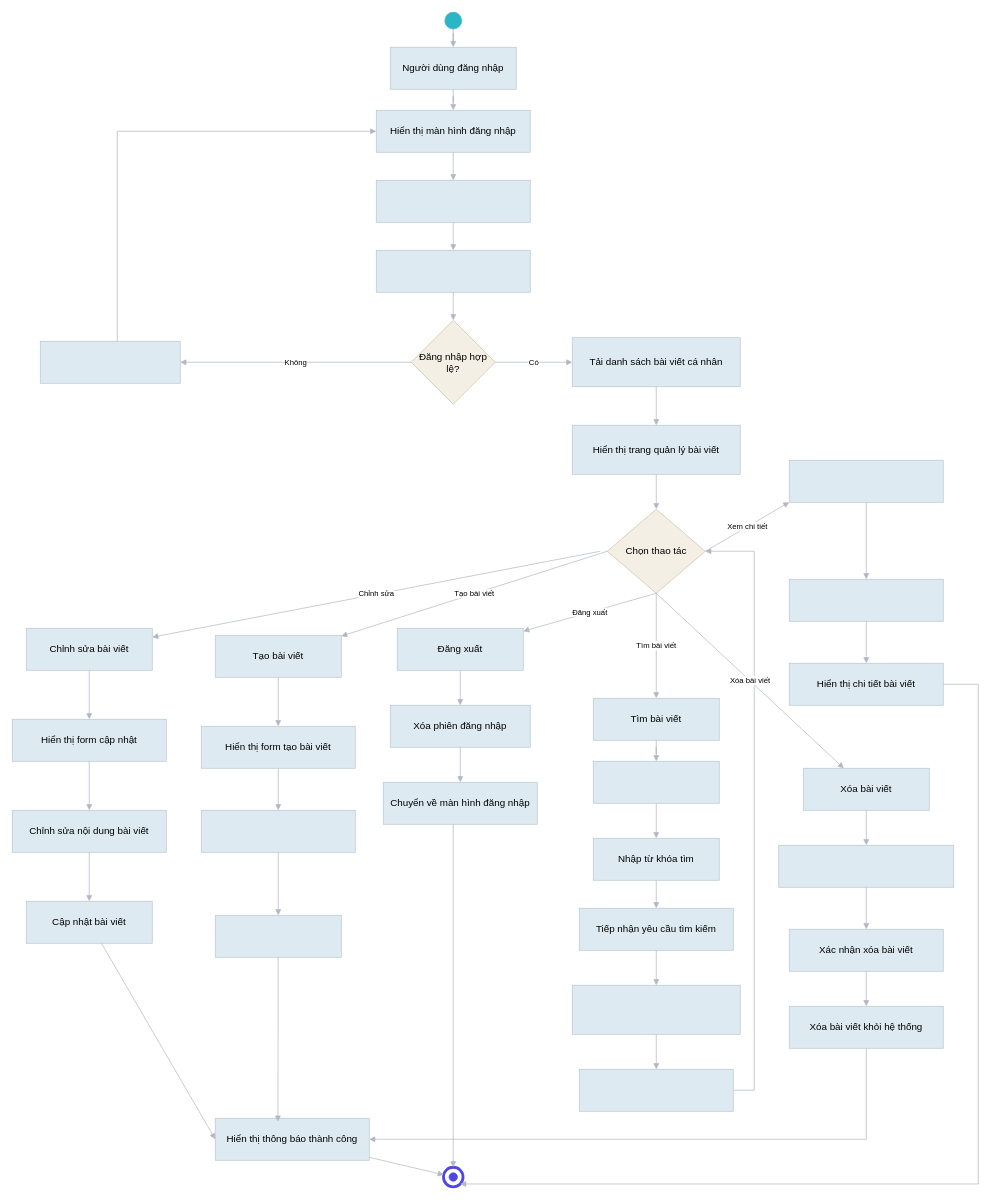
Image size: 996x1202. Some labels were removed from this diagram. Each missing label, with the centre of its shape:
Chọn bài viết cần xem: the point at 866,481
Hiển thị danh sách bài viết: the point at 656,1090
Hiển thị hộp thoại xác nhận xóa: the point at 866,866
Hiển thị thông báo lỗi: the point at 110,362
Hiển thị ô tìm kiếm: the point at 656,782
Kiểm tra thông tin đăng nhập: the point at 453,271
Lưu bài viết: the point at 278,936
Lấy chi tiết bài viết: the point at 866,600
Nhập nội dung bài viết mới: the point at 278,831
Nhập tài khoản và mật khẩu: the point at 453,201
Truy vấn bài viết theo tên bài viết: the point at 656,1009
